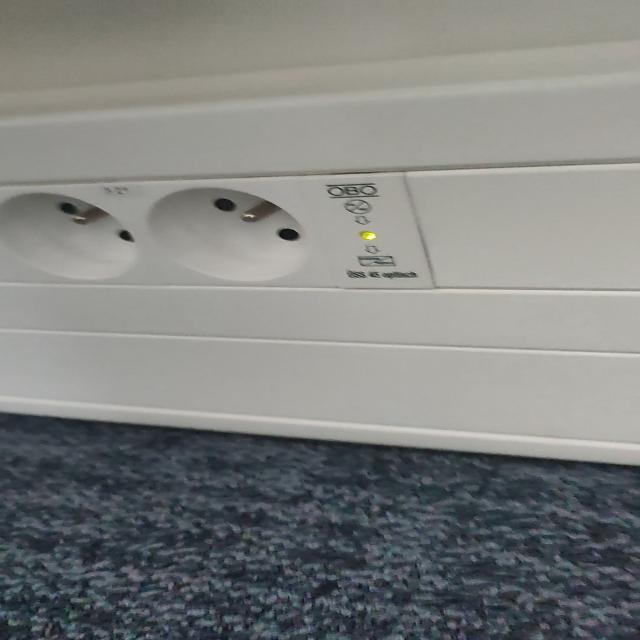house plug: (123, 178, 336, 288), (0, 184, 151, 288)
